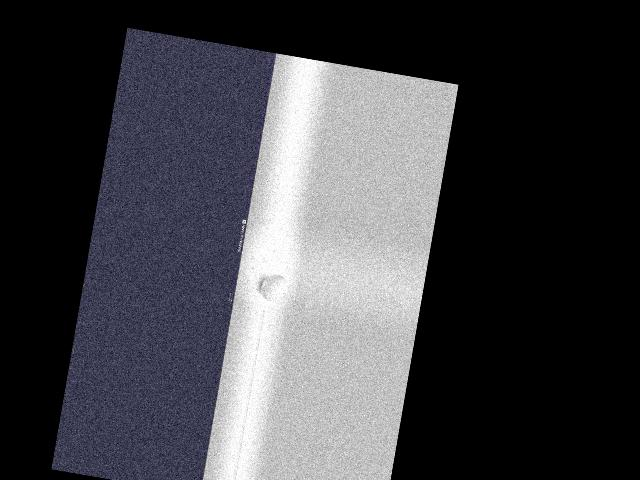egg: (258, 272, 287, 304)
